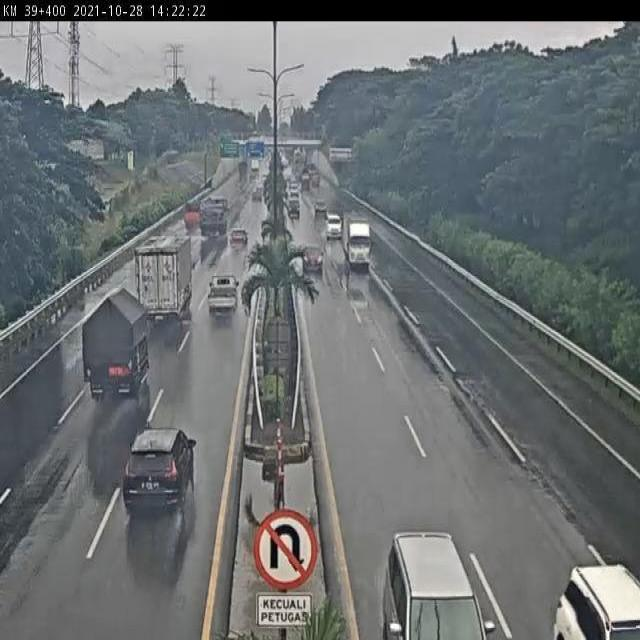car: (123, 424, 195, 524), (204, 274, 238, 322), (301, 242, 324, 274), (227, 225, 249, 251)
truck-l-: (134, 233, 193, 327), (196, 197, 229, 240)
truck-m-: (82, 288, 152, 409)
truck-s-: (342, 210, 371, 266), (182, 201, 203, 232)
